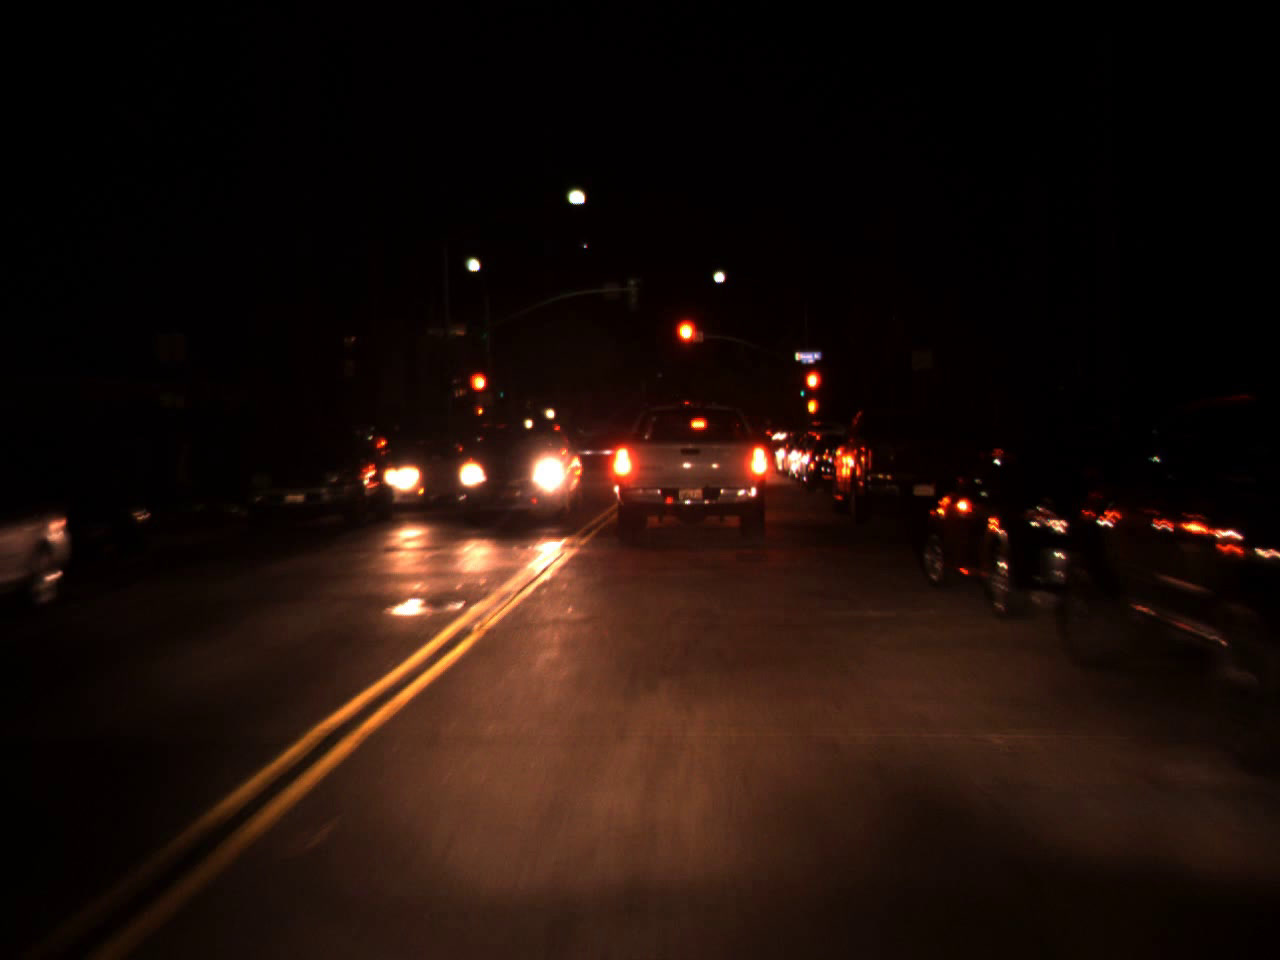stop: (673, 315, 700, 371), (802, 367, 823, 412), (468, 370, 489, 413)
